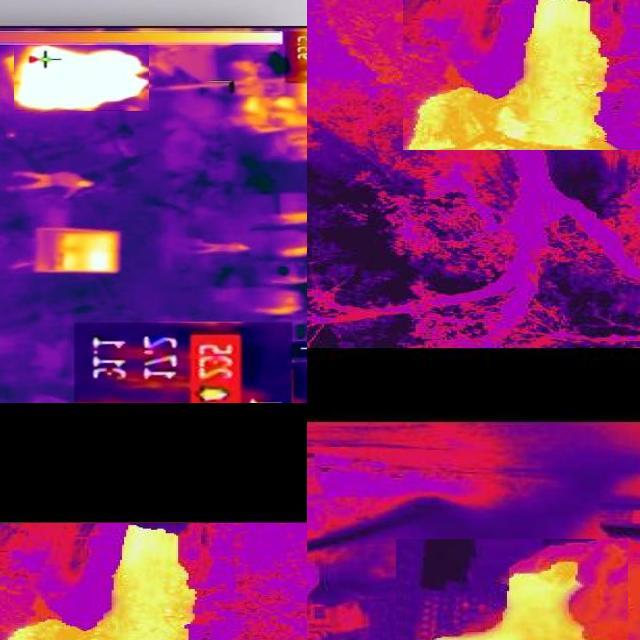fire: (403, 1, 618, 151), (1, 522, 201, 640), (434, 567, 591, 640), (14, 46, 149, 112)
